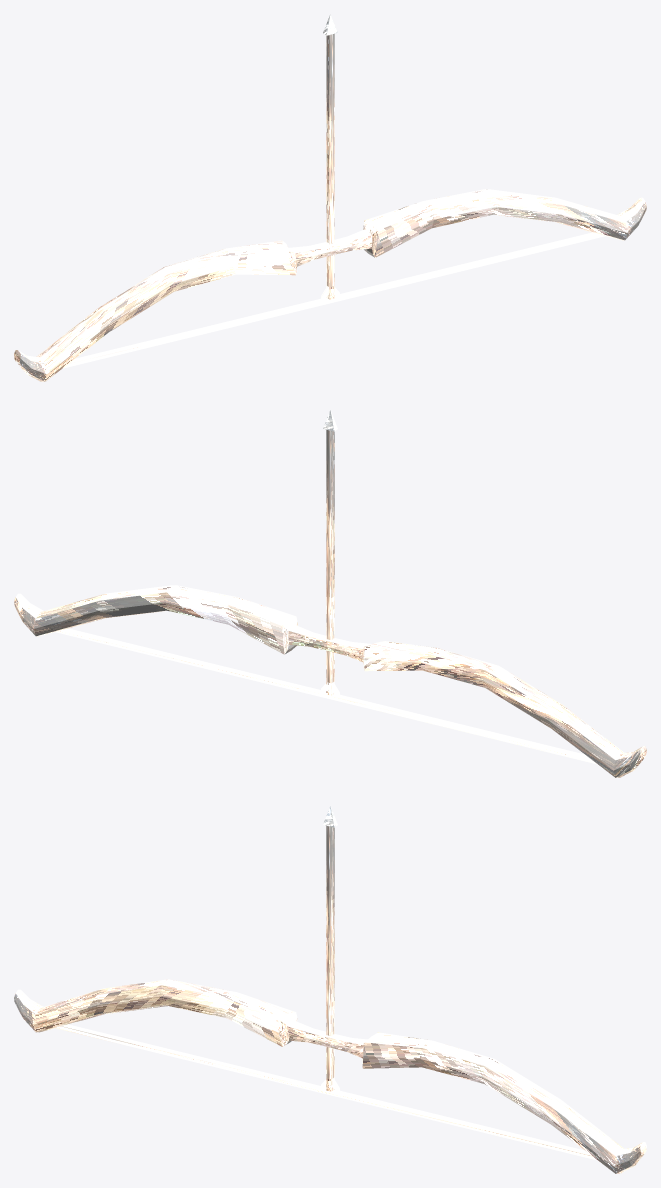
Rendered from Old Bow w_o arms.glb.
3 renders of one model, top to bottom at view 1: azimuth 30°, elevation 25°; view 2: azimuth 150°, elevation 25°; view 3: azimuth 330°, elevation 25°, orthographic.
Visible parts, largest first — view 1: Bow, String, Arrow; view 2: Bow, String, Arrow; view 3: Bow, String, Arrow.
Part boxes in pixels (bbox=[...]): Bow: bbox=[14, 189, 646, 381]; String: bbox=[62, 232, 605, 368]; Arrow: bbox=[321, 14, 339, 300]; Bow: bbox=[14, 585, 646, 777]; String: bbox=[55, 628, 597, 764]; Arrow: bbox=[321, 410, 339, 696]; Bow: bbox=[14, 979, 646, 1173]; String: bbox=[55, 1024, 597, 1160]; Arrow: bbox=[321, 806, 339, 1092].
Size of the model in its own units: 4.9 by 2.21 by 0.1974.
